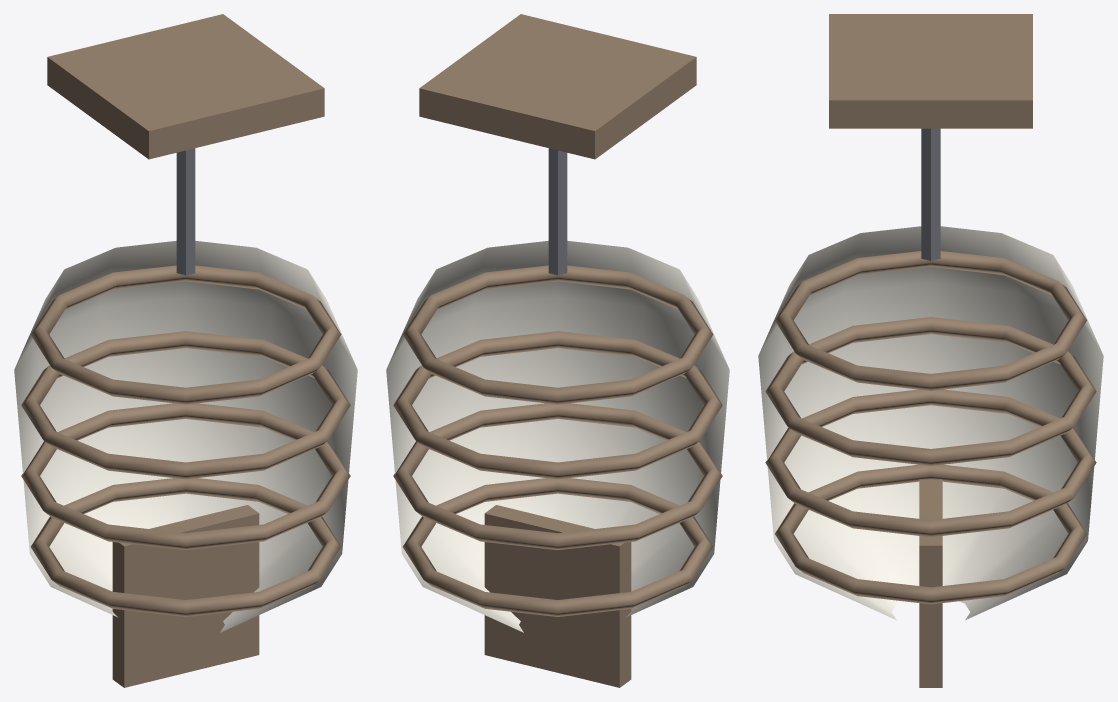
File: martial-arts-dojo-and-fight-stages-dojo-lantern-6329cde9__18068.glb
3 renders of one model, left to right at view 1: azimuth 30°, elevation 25°; view 2: azimuth 150°, elevation 25°; view 3: azimuth 270°, elevation 25°, orthographic.
Parts seen in each view (by area): view 1: dojo-lantern; view 2: dojo-lantern; view 3: dojo-lantern.
Boxes of the visible parts, <box> form: dojo-lantern: <box>14,14,357,687</box>; dojo-lantern: <box>386,14,729,687</box>; dojo-lantern: <box>758,14,1103,687</box>.
Size of the model in its own units: 0.44 by 0.84 by 0.44.
